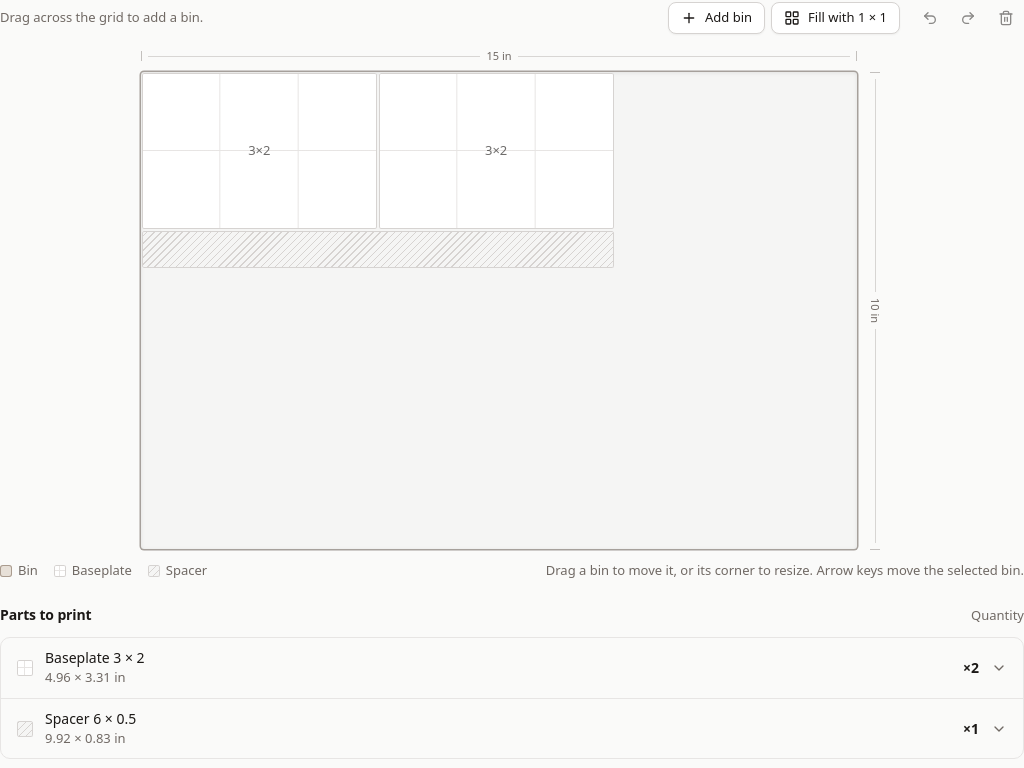
GridfinityVisualPreview parts list › shows the selected piece's details, with inches first when useMm is false
Click the button named "Spacer 6 × 0.5 — 1 in this drawer". click: (67, 718)
box: [1, 699, 1023, 758]
(page scrolled)
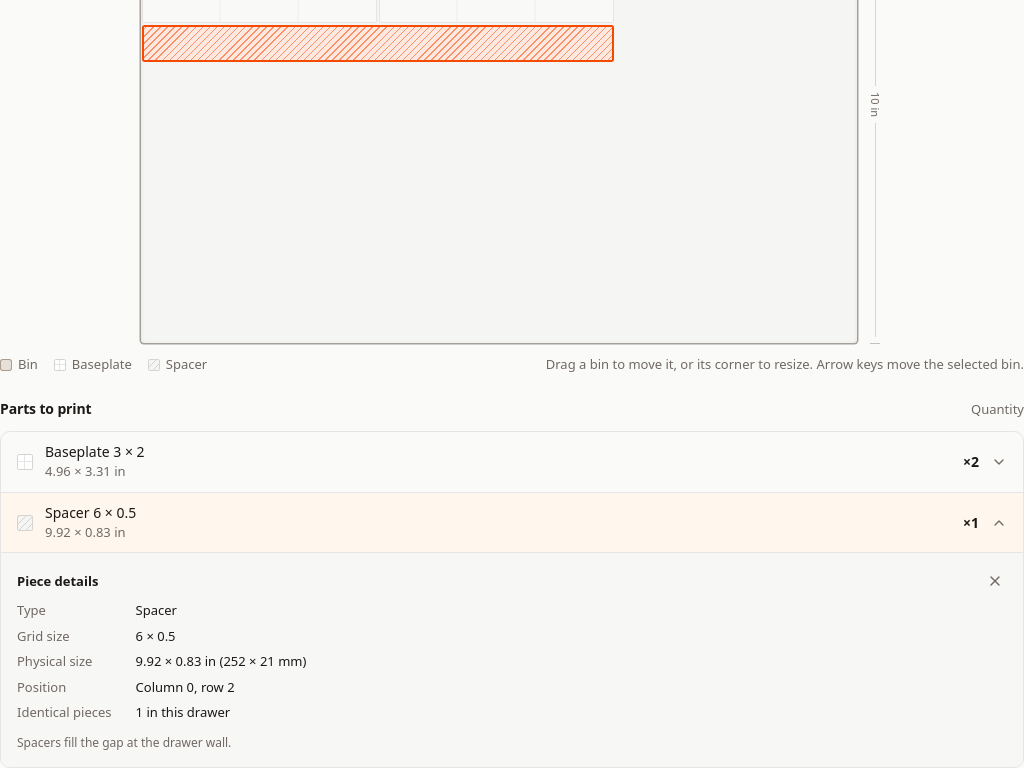
Result: the heading "Piece details" is shown at [17, 572, 98, 591]
Result: the text "Spacer" next to "Type" is shown at [136, 602, 177, 620]
Result: the text "9.92 × 0.83 in (252 × 21 mm)" is shown at [136, 652, 306, 670]
